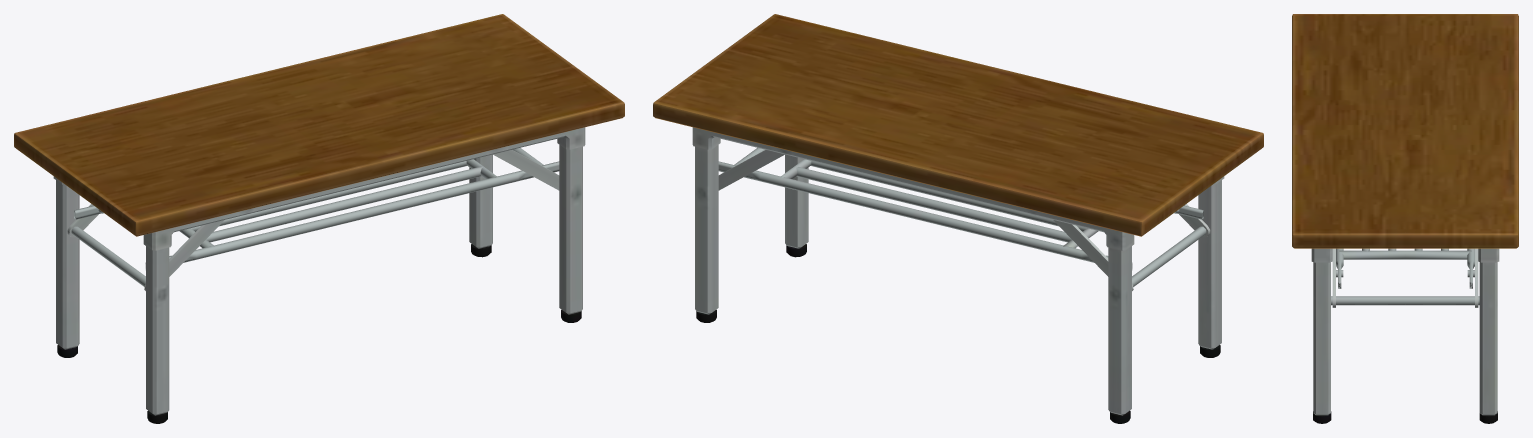
3 views of the same model, side by side, from view 1: azimuth 30°, elevation 25°; view 2: azimuth 150°, elevation 25°; view 3: azimuth 270°, elevation 25° (orthographic). The views are drawn at different scales.
Bounding box in the file's own units: 17.5 × 7.5 × 7.57.
1 material, 1 textured.
